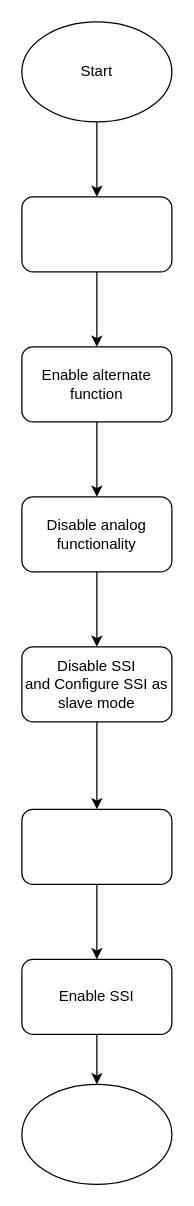
Image size: 194x1206. Some labels were removed from this diagram. Here are the shapes that lost their labels. From the top down, the centre of each, then its label:
(x=96, y=234): Enable SSI0 module clock and GPIO
(x=96, y=846): Make Freescale SPI mode, 8-bit data
(x=96, y=1133): Stop
